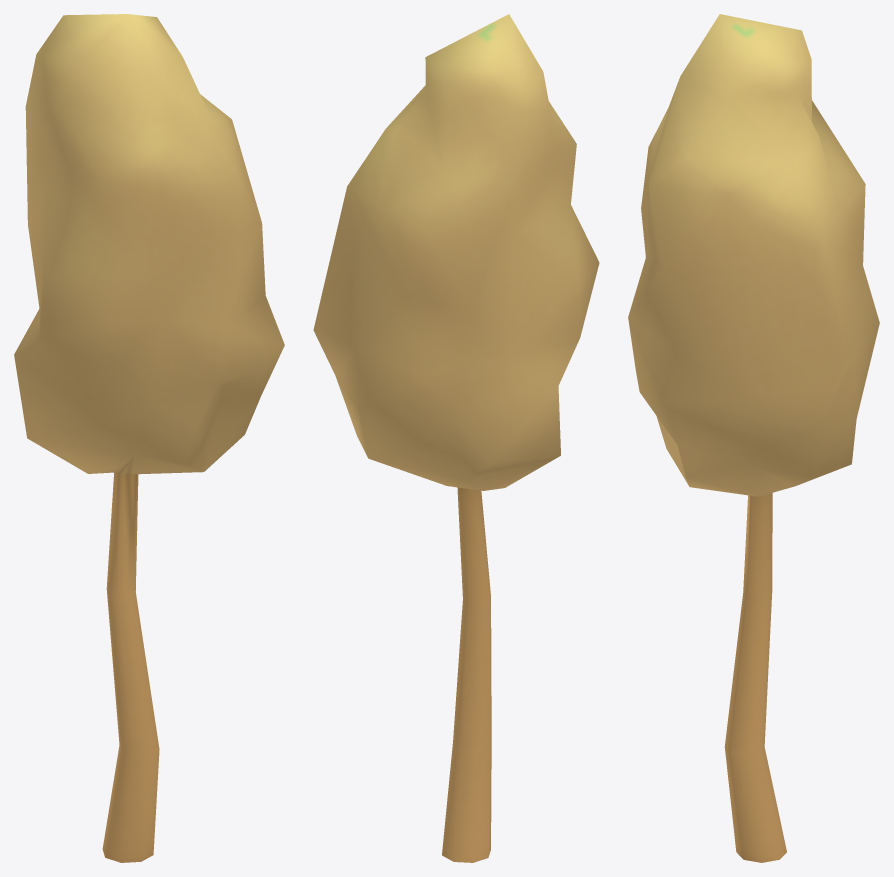
The picture shows the model from 3 angles, left to right: view 1: azimuth 30°, elevation 25°; view 2: azimuth 150°, elevation 25°; view 3: azimuth 270°, elevation 25°; orthographic projection. The views are drawn at different scales.
Visible parts, largest first — view 1: Poros1.010; view 2: Poros1.010; view 3: Poros1.010.
Boxes of the visible parts, box(x1,y1,x2,y2) form: Poros1.010: box(14, 14, 284, 862); Poros1.010: box(313, 14, 599, 862); Poros1.010: box(628, 14, 879, 862).
Size of the model in its own units: 2.84 by 10.04 by 2.77.
Materials: 1 (1 with a texture image).
